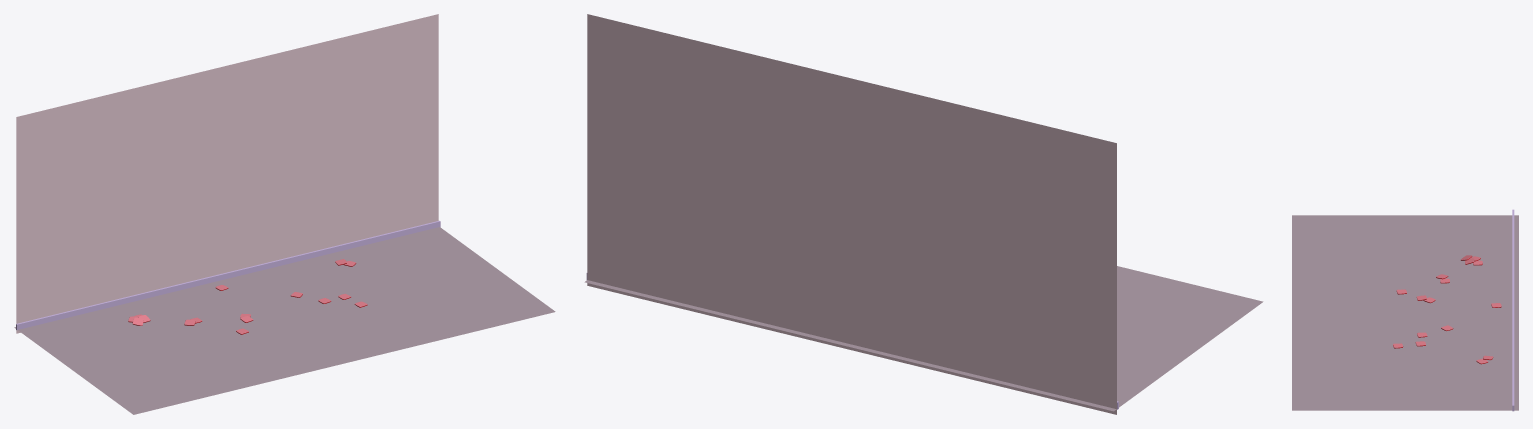
File: fruit_background.gltf
The picture shows the model from 3 angles, left to right: view 1: azimuth 30°, elevation 25°; view 2: azimuth 150°, elevation 25°; view 3: azimuth 270°, elevation 25°; orthographic projection. The views are drawn at different scales.
Parts seen in each view (by area): view 1: Plane.040, Plane.035, fruit_background; view 2: Plane.040, Plane.035; view 3: Plane.035, fruit_background.
Part boxes in pixels (left/top/right/bottom): Plane.040: left=16, top=14, right=438, bottom=333; Plane.035: left=14, top=227, right=555, bottom=414; fruit_background: left=16, top=220, right=440, bottom=330; Plane.040: left=587, top=14, right=1116, bottom=414; Plane.035: left=584, top=266, right=1263, bottom=411; Plane.035: left=1292, top=215, right=1518, bottom=410; fruit_background: left=1512, top=209, right=1514, bottom=411.
Bounding box in the file's own units: 12.68 × 6.2 × 6.2.
